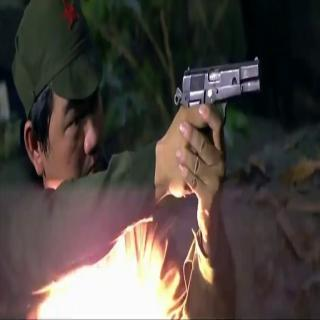gun: (172, 51, 261, 198)
